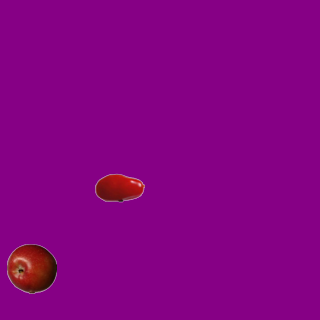Apple Braeburn: (6, 243, 56, 293)
Tomato 2: (94, 162, 144, 212)
